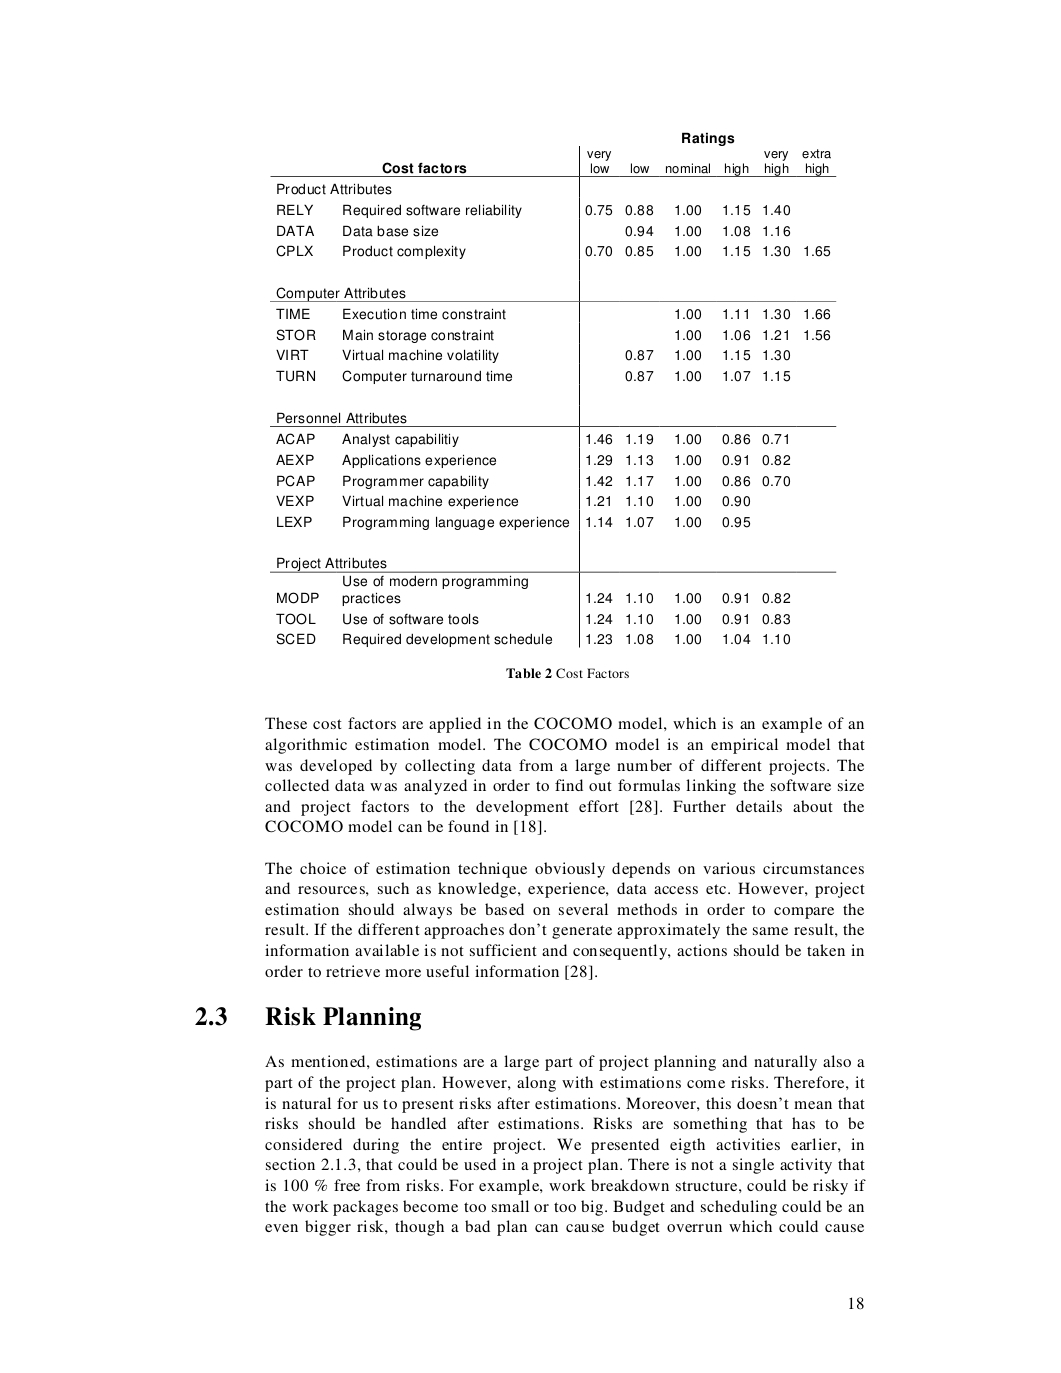Table: (270, 132, 836, 647)
